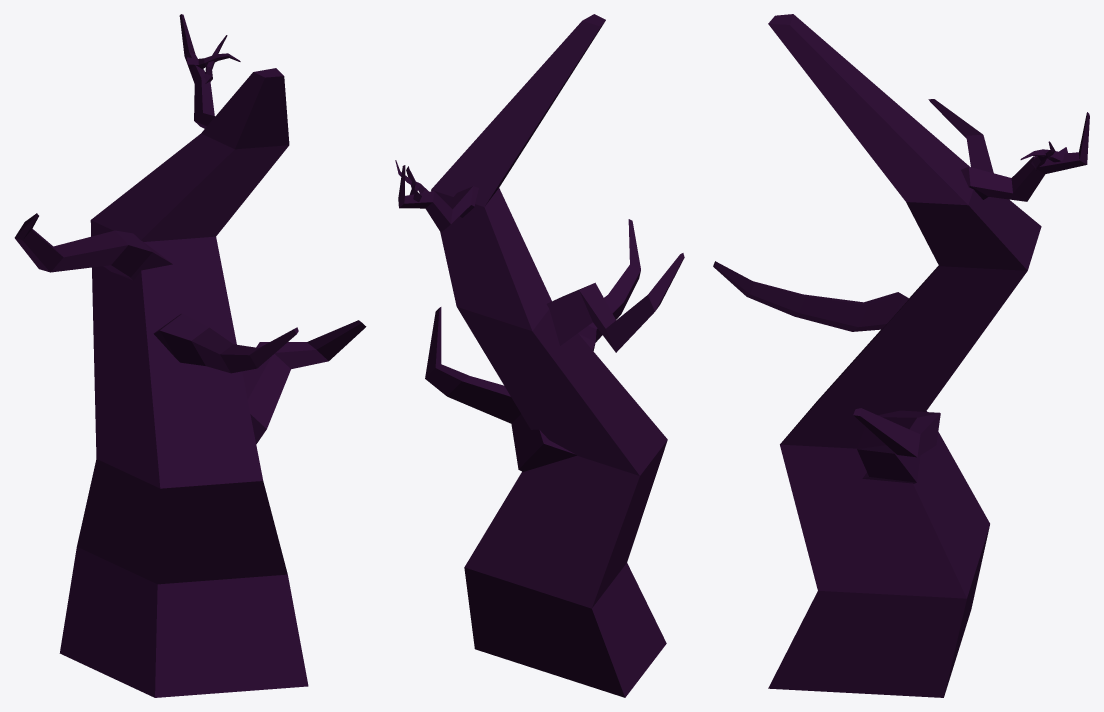
The model's file is BlackTree3.fbx.
3 renders of one model, left to right at view 1: azimuth 30°, elevation 25°; view 2: azimuth 150°, elevation 25°; view 3: azimuth 270°, elevation 25°, orthographic. The views are drawn at different scales.
Parts seen in each view (by area): view 1: DarkTree1; view 2: DarkTree1; view 3: DarkTree1.
Part boxes in pixels (<box>): DarkTree1: <box>14,14,366,697</box>; DarkTree1: <box>395,14,684,697</box>; DarkTree1: <box>713,14,1089,697</box>.
Bounding box in the file's own units: 357 × 713 × 373.
